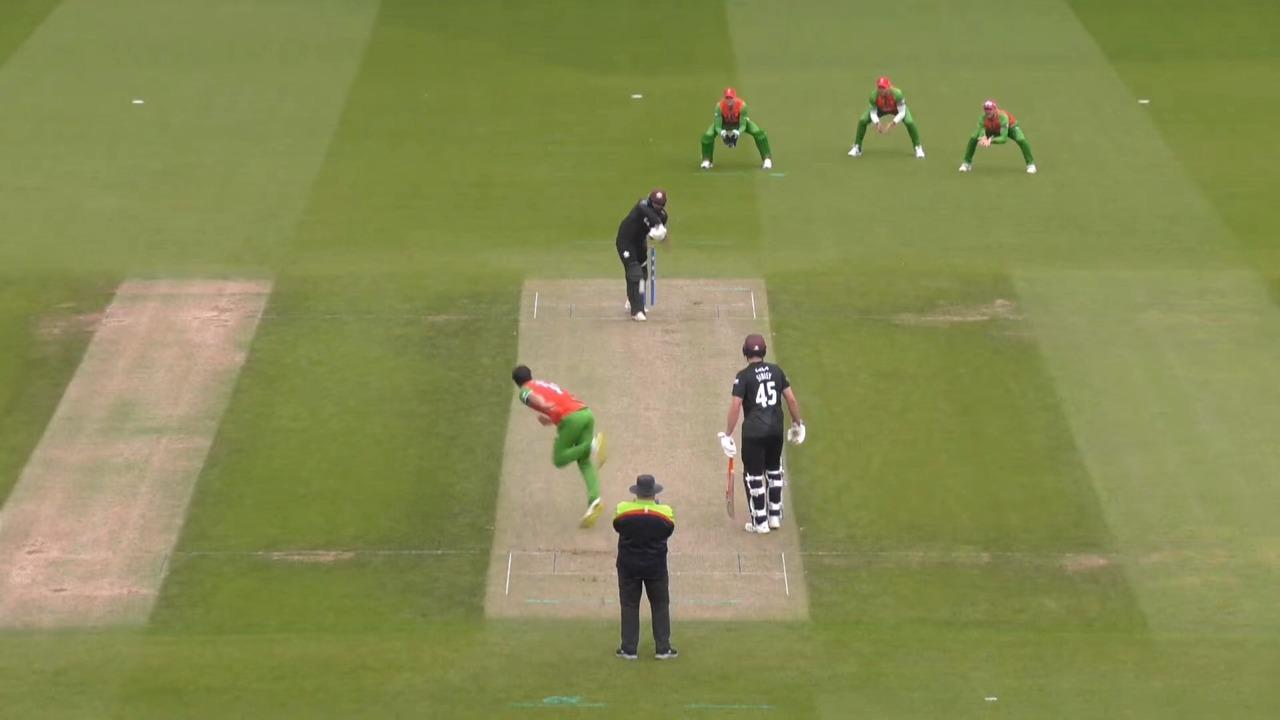sports ball: (639, 279, 644, 294)
